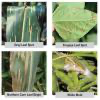Corn Gray leaf spot: (5, 3, 46, 42)
